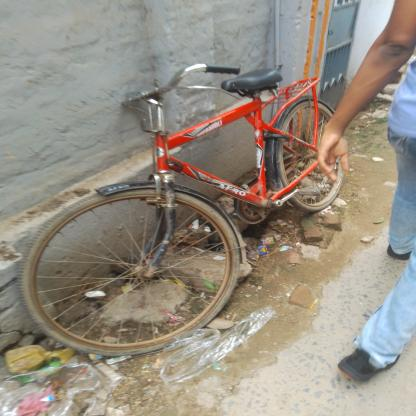bike: (9, 58, 364, 360)
